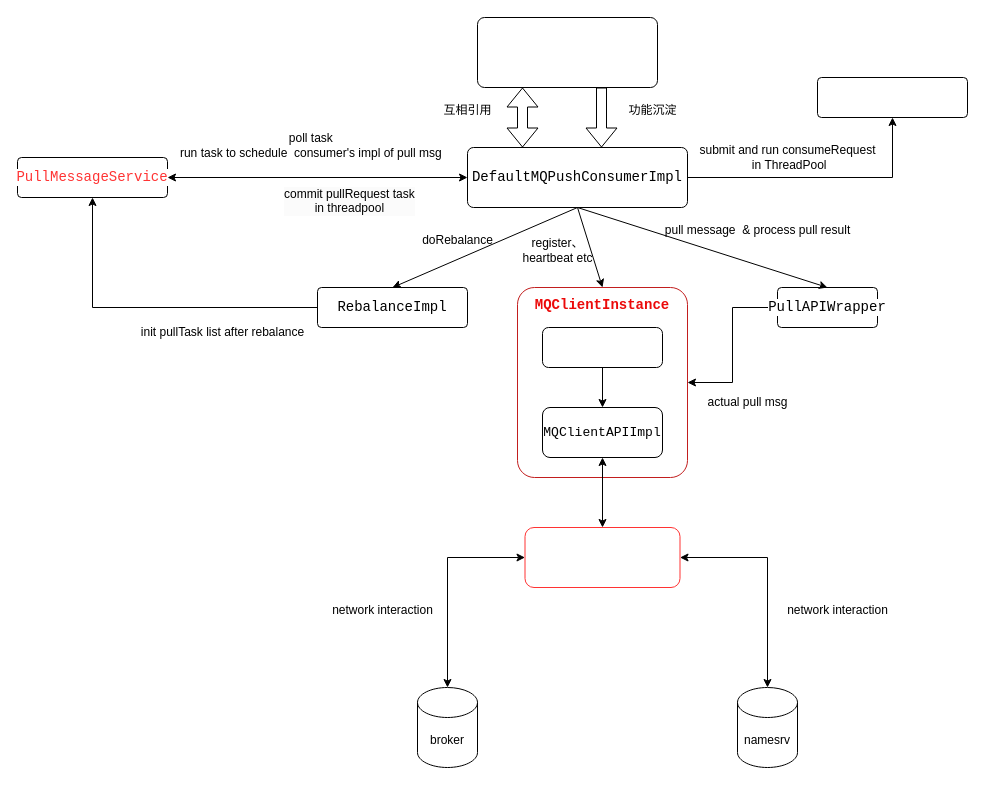
Some shapes in this 998 by 785 pixel diagram are drawn without their labels. Each missing label, with the centre of its shape:
"ConsumeMessageService" goes at (892,97).
"DefaultMQPushConsumer" goes at (567,52).
"MQAdminImpl" goes at (602,347).
"NettyRemotingClient" goes at (602,557).
